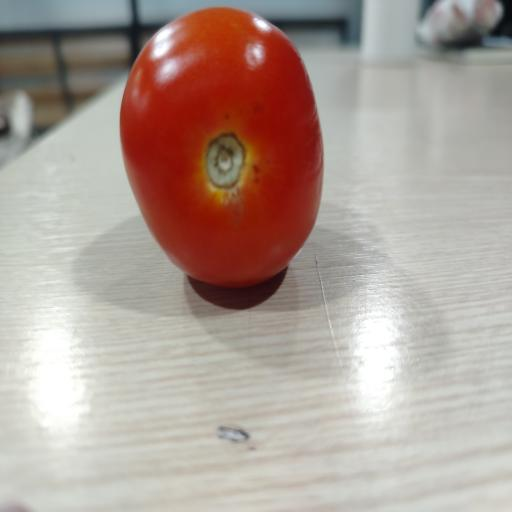ripe: (120, 8, 323, 287)
